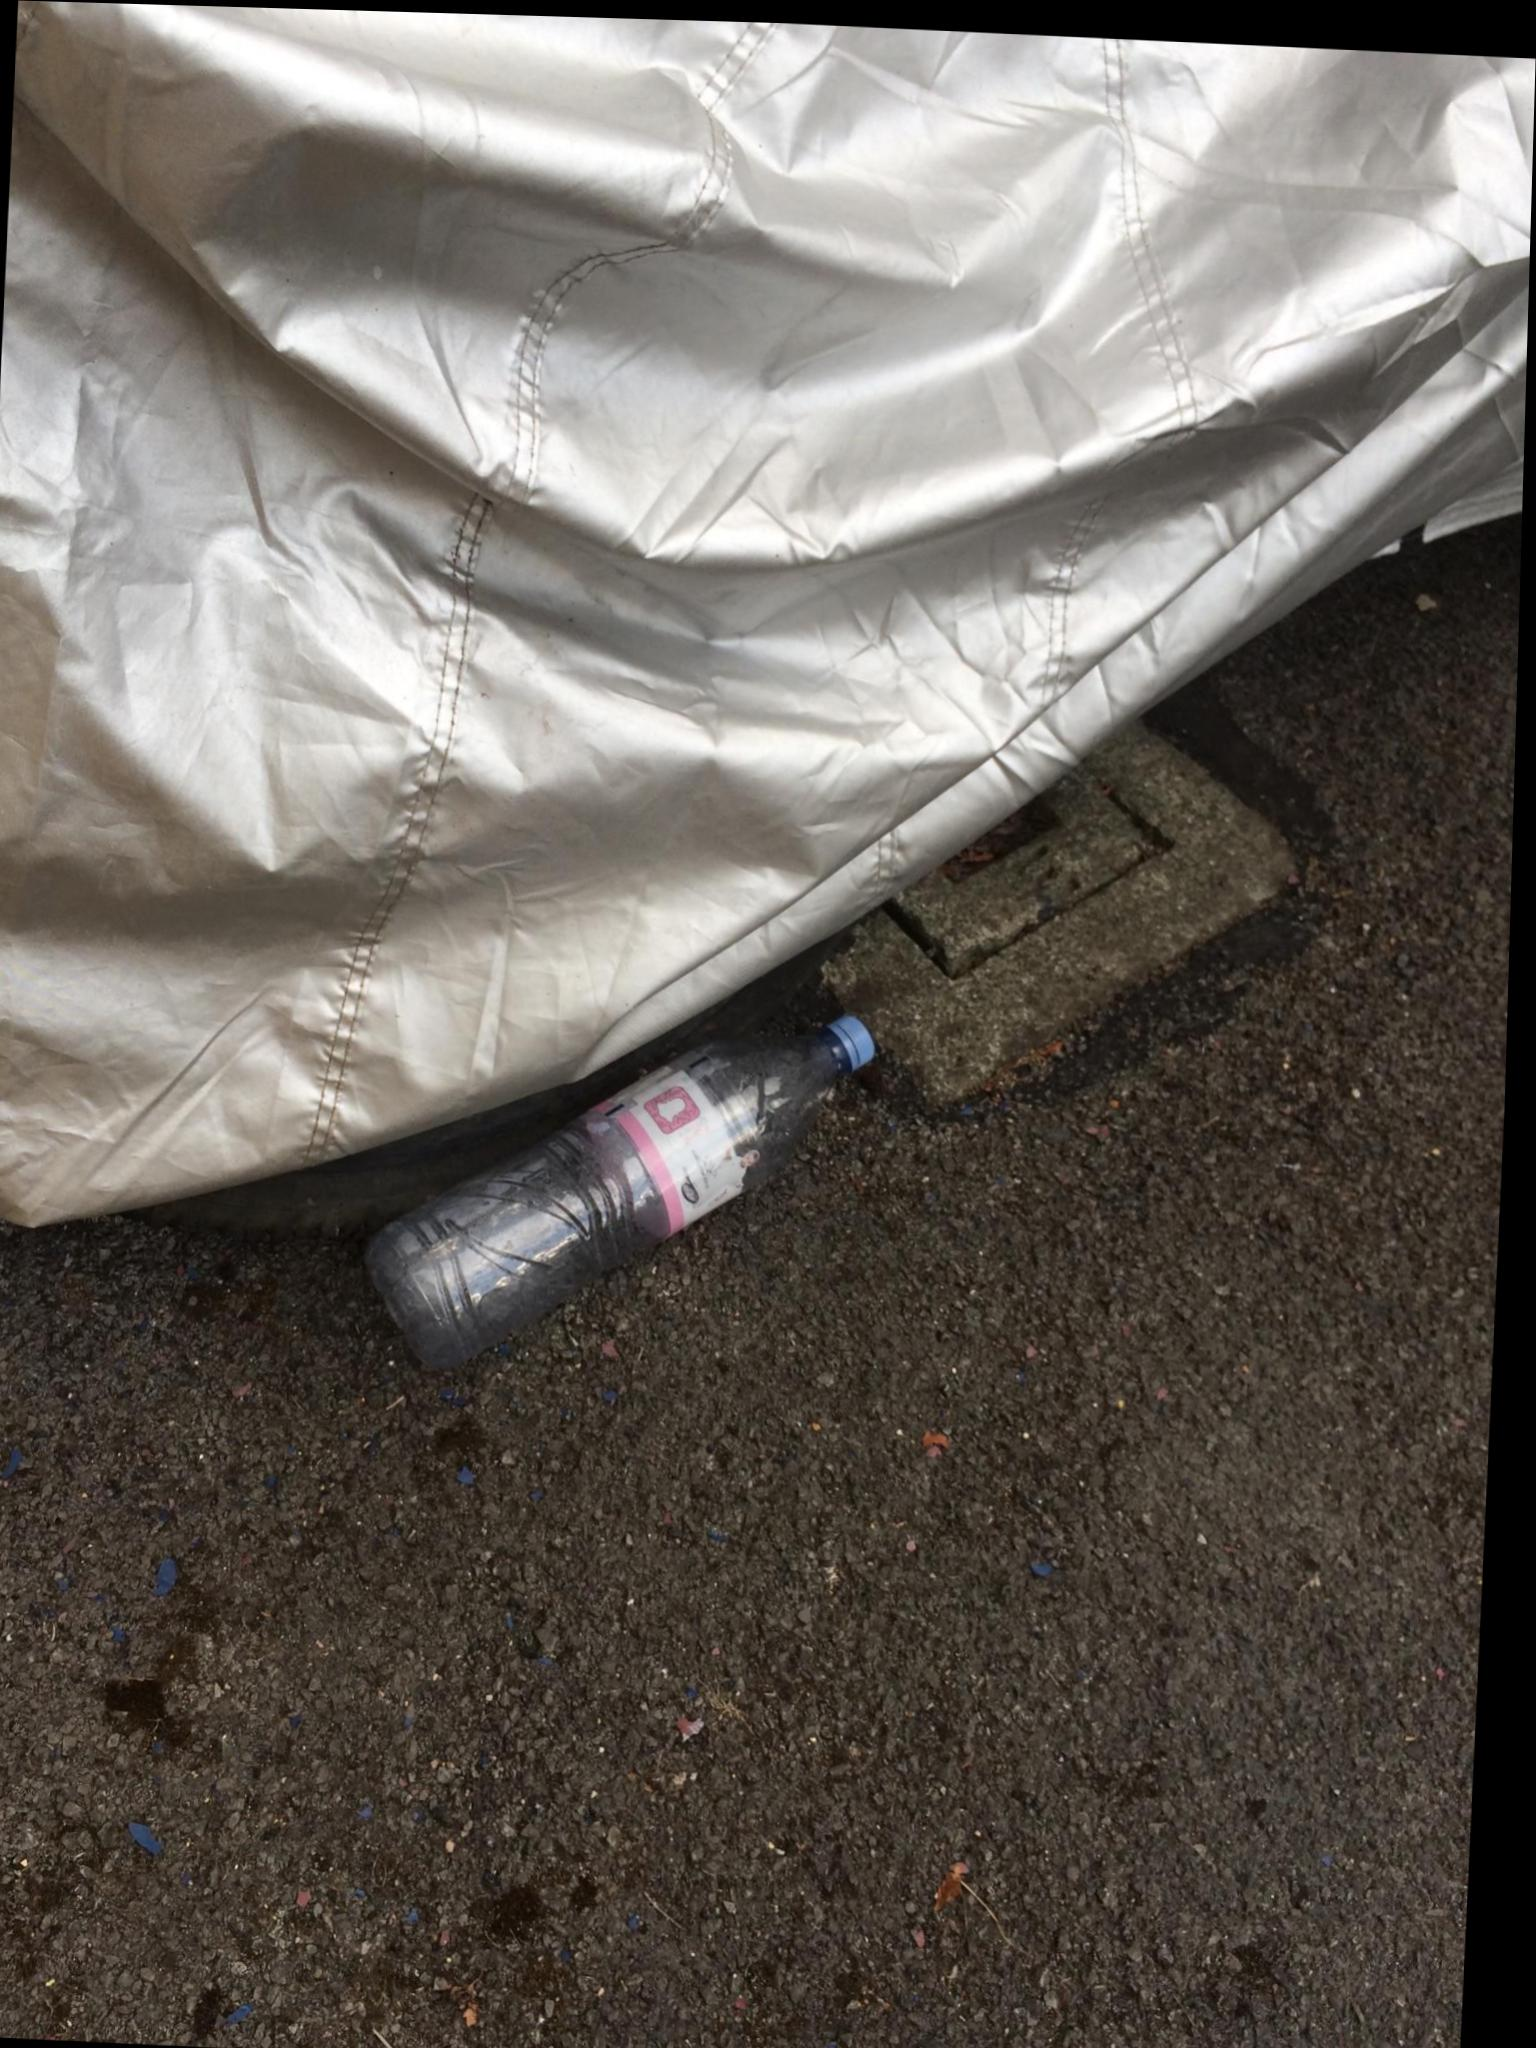plastic: (355, 992, 899, 1414)
